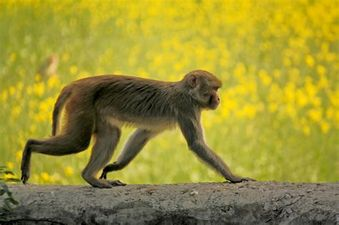monkey: (32, 37, 254, 207)
